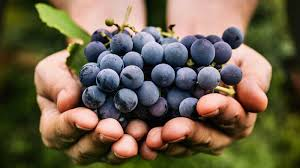Black grapes: (71, 26, 234, 130)
